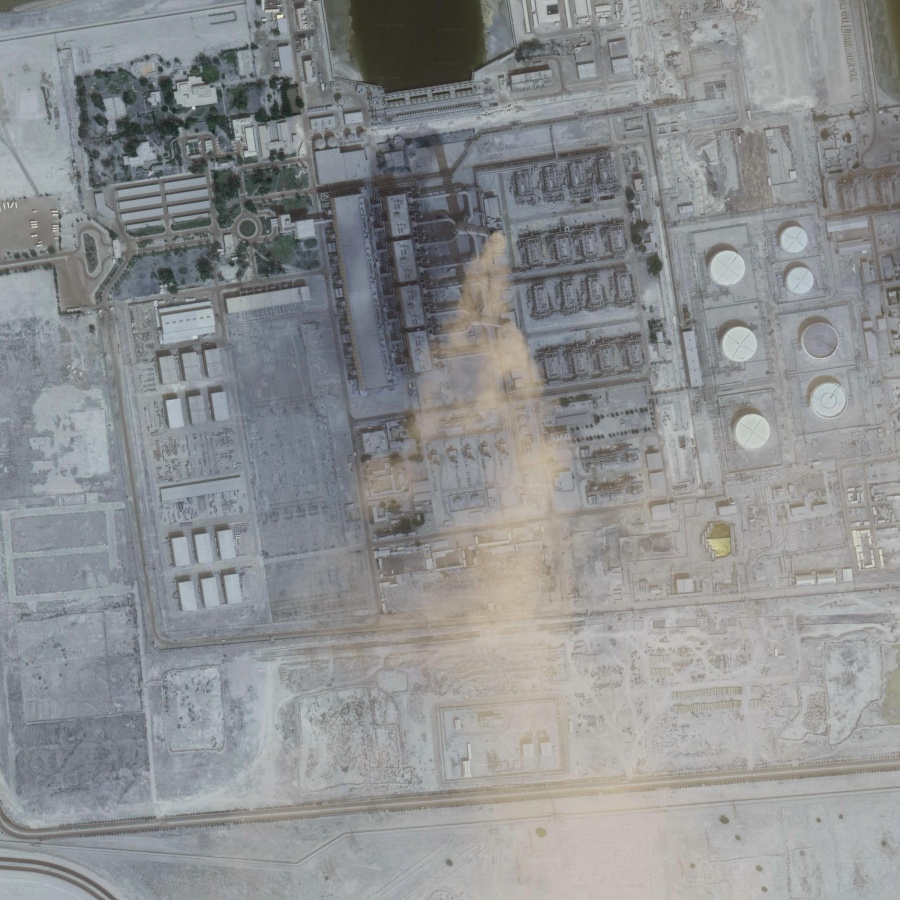PowerPlant: (333, 86, 863, 562)
